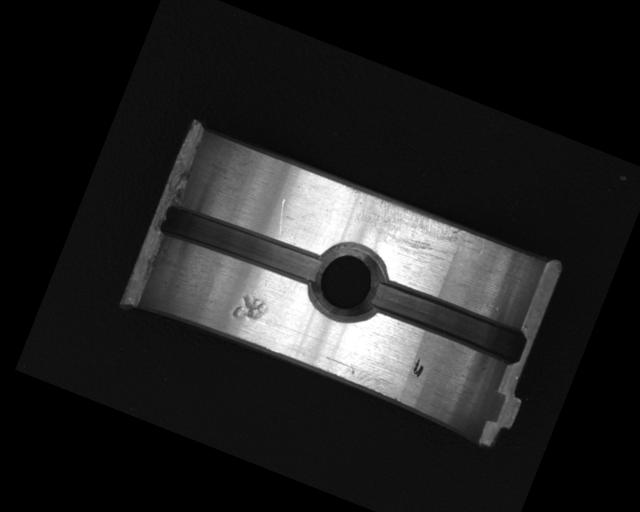blot: (409, 356, 427, 380)
bruise: (229, 289, 271, 330)
gap: (156, 195, 327, 295), (364, 274, 529, 368)
hole: (298, 232, 397, 332)
nick: (268, 197, 295, 239)
scratch: (331, 182, 491, 279)
